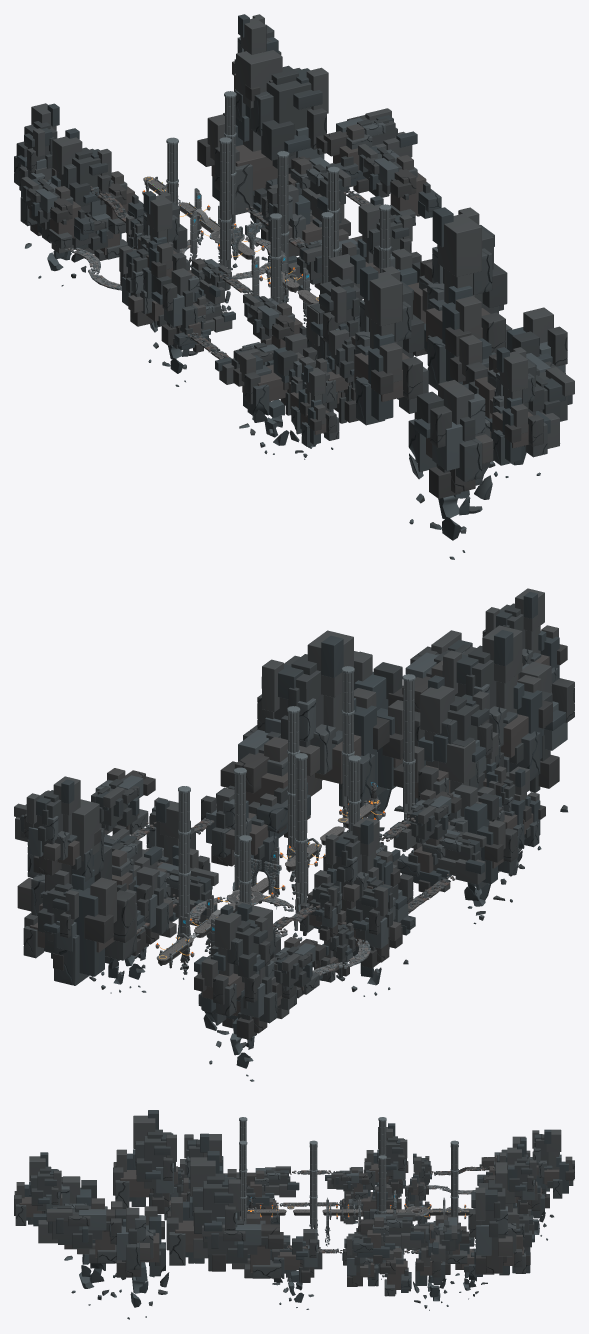
The model's file is underworld2.glb.
3 views of the same model, one above another, from view 1: azimuth 30°, elevation 25°; view 2: azimuth 150°, elevation 25°; view 3: azimuth 270°, elevation 25° (orthographic). The views are drawn at different scales.
Visible parts, largest first — view 1: ruins_001.027, ruins_001.022, ruins_002.027, ruins_001.084, ruins_001.085, ruins_002.003, ruins_002.005, ruins_001.020, ruins_001.038, ruins_001.036, ruins_001.002, ruins_001.011 (+26 smaller); view 2: ruins_001.022, ruins_001.027, ruins_001.084, ruins_001.011, ruins_001.034, ruins_001.028, ruins_001.004, ruins_002.003, ruins_002.005, ruins_001.002, ruins_001.025, ruins_002.006 (+27 smaller); view 3: ruins_001.022, ruins_001.084, ruins_001.027, ruins_002.005, ruins_001.004, ruins_001.086, ruins_001.038, ruins_001.085, ruins_002.006, ruins_001.034, ruins_002.027, ruins_001.002 (+21 smaller).
Part boxes in pixels (x1,y1,x2,y2): ruins_001.027: (197, 37, 328, 214); ruins_001.022: (422, 207, 512, 390); ruins_002.027: (408, 380, 493, 559); ruins_001.084: (351, 266, 428, 425); ruins_001.085: (490, 347, 547, 465); ruins_002.003: (233, 333, 317, 454); ruins_002.005: (450, 307, 567, 477); ruins_001.020: (316, 108, 417, 193); ruins_001.038: (358, 144, 441, 225); ruins_001.036: (28, 128, 111, 243); ruins_001.002: (138, 191, 189, 298); ruins_001.011: (306, 254, 365, 356); ruins_001.022: (257, 630, 389, 807); ruins_001.027: (17, 790, 136, 985); ruins_001.084: (442, 625, 552, 780); ruins_001.011: (393, 675, 492, 811); ruins_001.034: (194, 904, 270, 1016); ruins_001.028: (24, 776, 101, 881); ruins_001.004: (220, 725, 322, 839); ruins_002.003: (448, 784, 518, 924); ruins_002.005: (354, 651, 424, 840); ruins_001.002: (323, 817, 400, 915); ruins_001.025: (397, 829, 486, 892); ruins_002.006: (201, 787, 286, 903); ruins_001.022: (166, 1151, 241, 1271); ruins_001.084: (113, 1110, 177, 1213); ruins_001.027: (468, 1162, 530, 1274); ruins_002.005: (109, 1206, 169, 1319); ruins_001.004: (193, 1213, 290, 1278); ruins_001.086: (33, 1198, 116, 1263); ruins_001.038: (353, 1212, 424, 1263); ruins_001.085: (14, 1152, 62, 1225); ruins_002.006: (272, 1229, 322, 1309); ruins_001.034: (532, 1129, 574, 1198); ruins_002.027: (61, 1176, 122, 1305); ruins_001.002: (364, 1123, 408, 1193).
Bounding box in the file's own units: 324 × 265 × 699.
12 materials, 6 textured.
